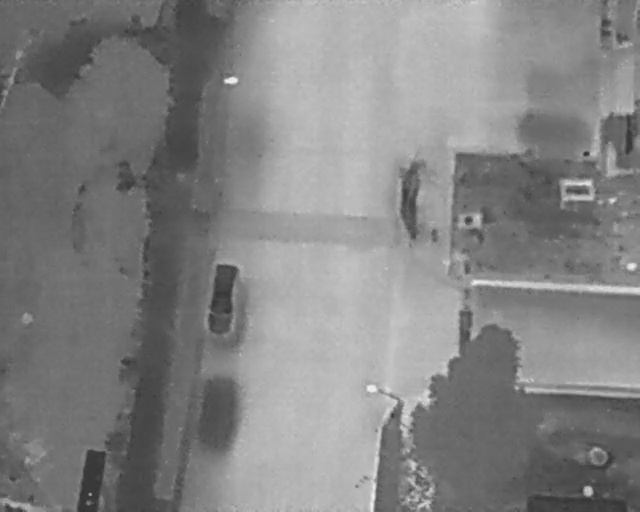Car: (203, 262, 243, 337)
